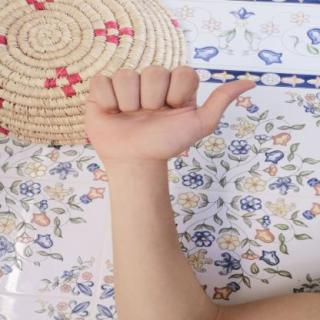DAD: (71, 60, 266, 170)
